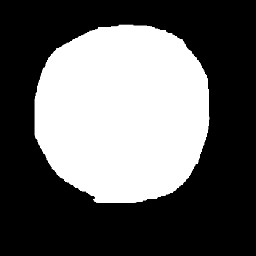mass: (34, 23, 205, 206)
